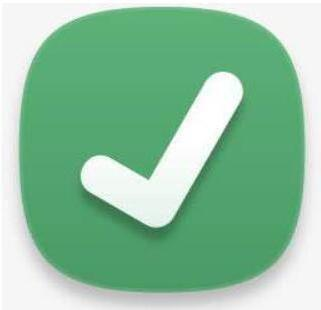CheckBox: (1, 1, 320, 309)
